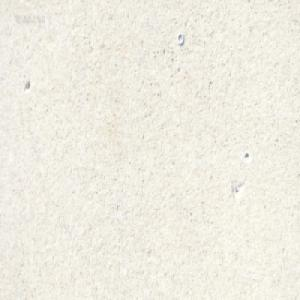Washer: (176, 31, 184, 45)
